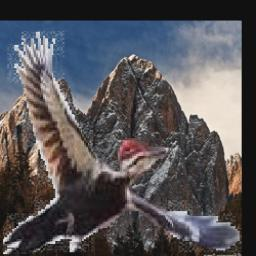Woodpecker: (2, 26, 241, 255)
